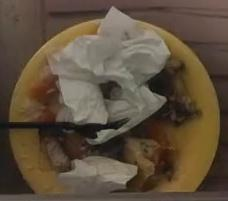carrots: (25, 74, 61, 122)
potato: (123, 138, 172, 191)
unknown: (39, 128, 94, 172)
